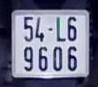0: (51, 45, 65, 72)
4: (34, 15, 46, 43)
5: (22, 15, 34, 43)
6: (66, 15, 79, 43), (37, 45, 49, 73), (67, 45, 79, 73)
9: (22, 45, 35, 72)
L: (54, 16, 66, 42)
